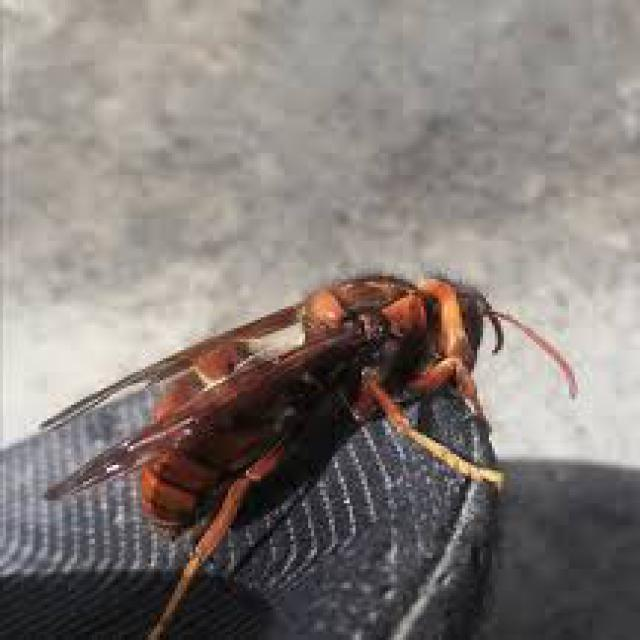Vespa Velutina: (29, 255, 590, 638)
